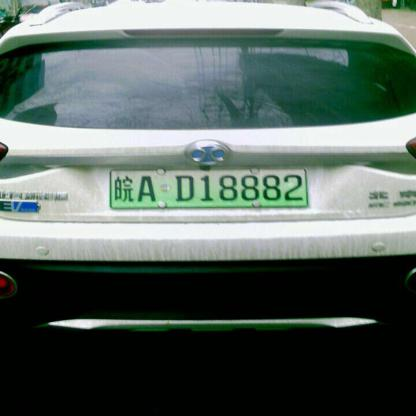lp: (110, 168, 308, 206)
